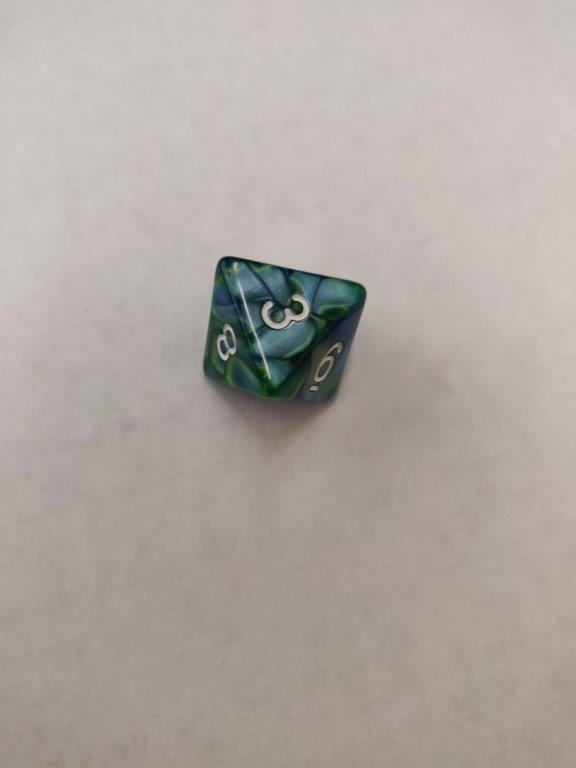d8-3: (203, 255, 366, 405)
